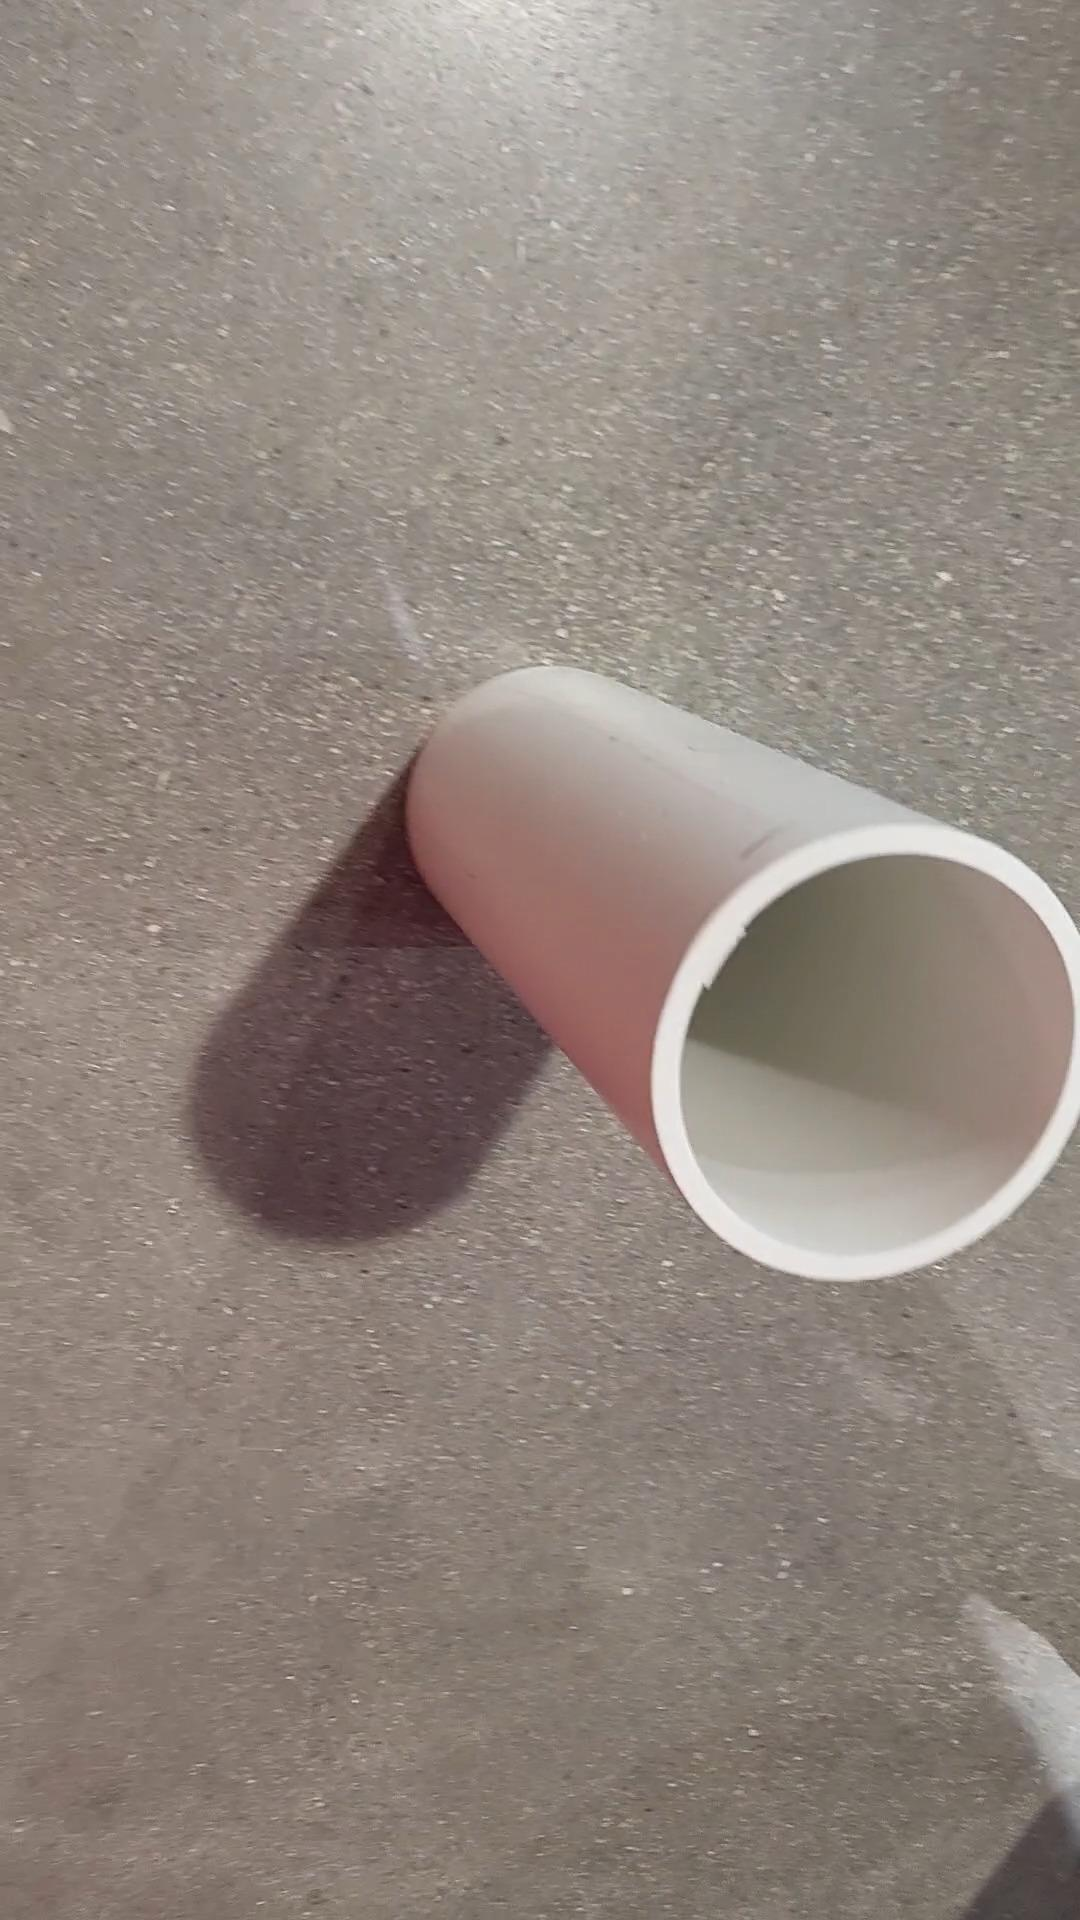coral: (406, 667, 1080, 1280)
